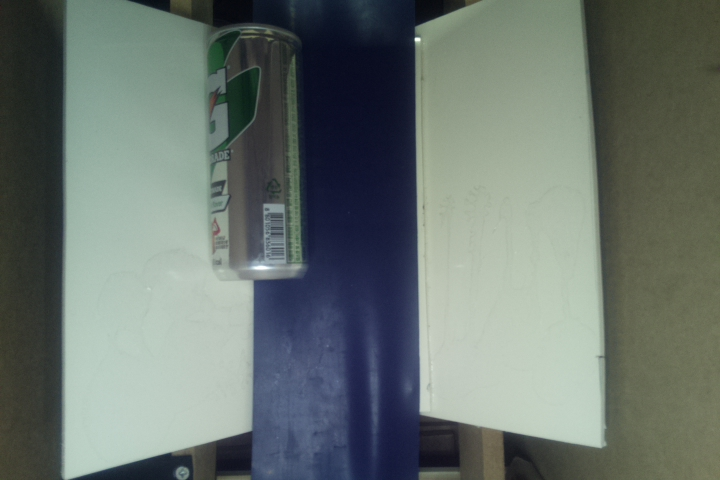can: (203, 23, 306, 283)
